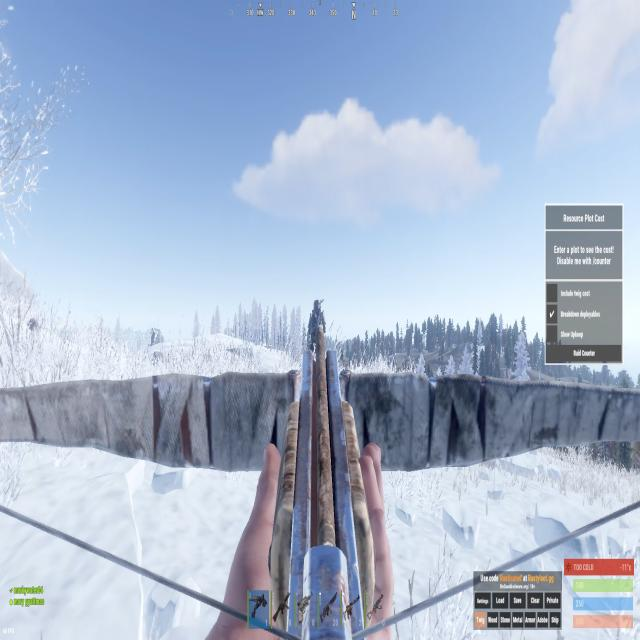Player: (307, 298, 326, 361)
